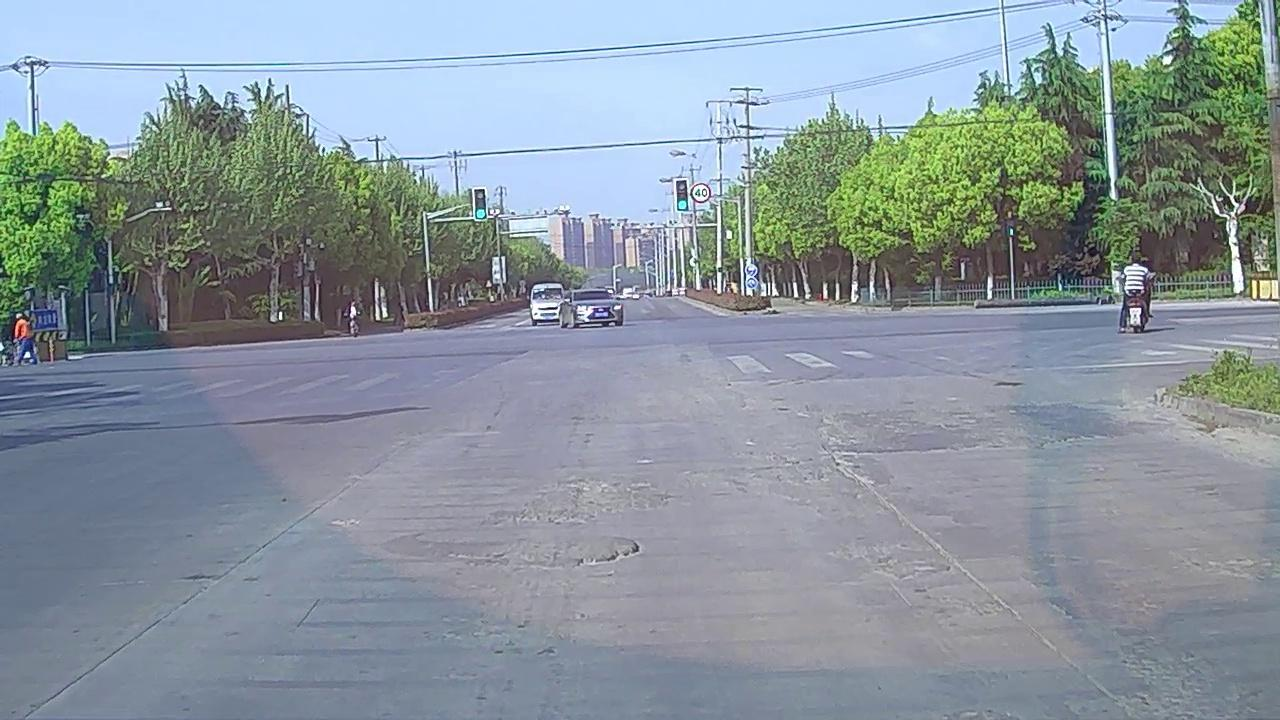traffic_light: (473, 188, 486, 220), (676, 178, 688, 212)
